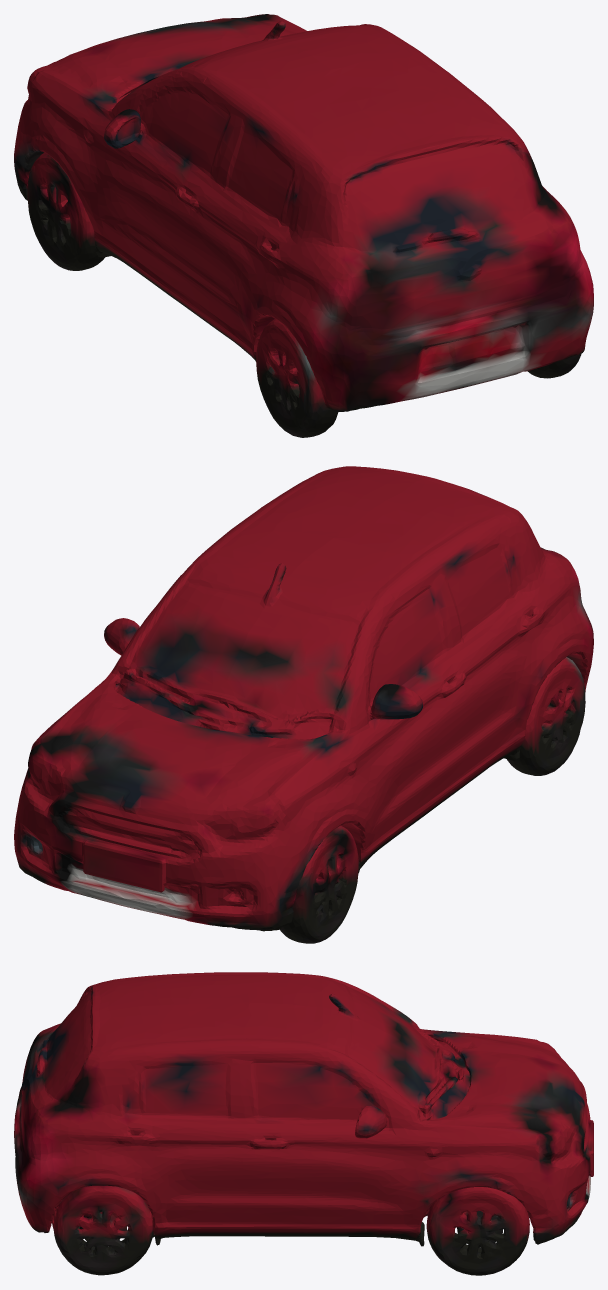
File: player.glb
3 renders of one model, top to bottom at view 1: azimuth 30°, elevation 25°; view 2: azimuth 150°, elevation 25°; view 3: azimuth 270°, elevation 25°, orthographic. The views are drawn at different scales.
Visible parts, largest first — view 1: world; view 2: world; view 3: world.
Boxes of the visible parts, x1,y1,x2,y2 form: world: (14,14,593,437); world: (14,466,593,943); world: (14,972,593,1275).
Bounding box in the file's own units: 88.4 × 75.35 × 172.
